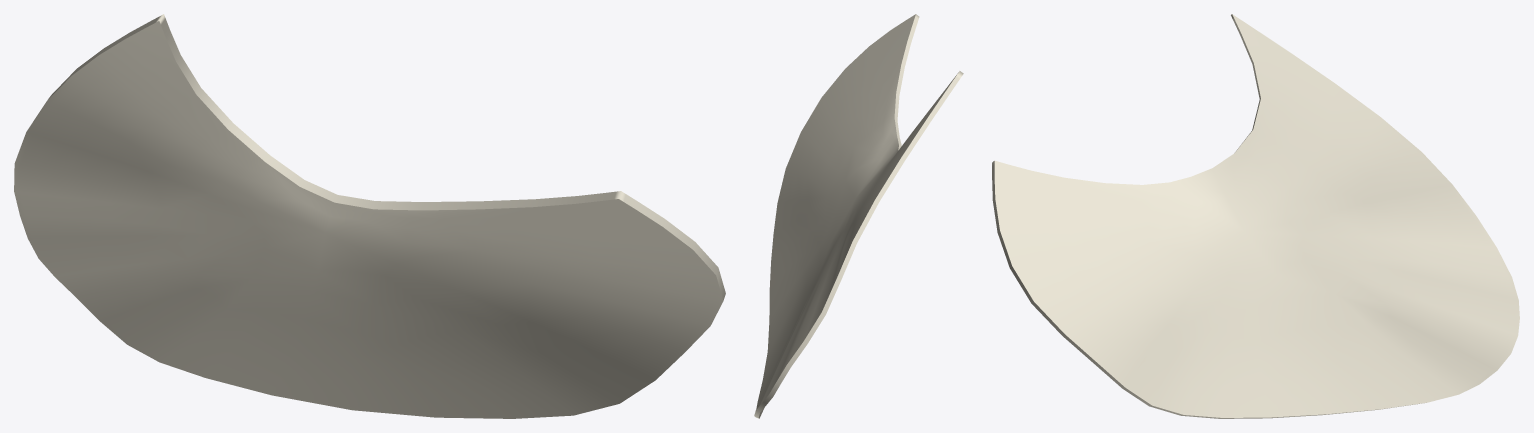
The picture shows the model from 3 angles, left to right: view 1: azimuth 30°, elevation 25°; view 2: azimuth 150°, elevation 25°; view 3: azimuth 270°, elevation 25°; orthographic projection. The views are drawn at different scales.
Visible parts, largest first — view 1: ZA_36586ce52b5c7e1a; view 2: ZA_36586ce52b5c7e1a; view 3: ZA_36586ce52b5c7e1a.
Boxes of the visible parts, <box> form: ZA_36586ce52b5c7e1a: <box>14,14,725,418</box>; ZA_36586ce52b5c7e1a: <box>754,14,963,418</box>; ZA_36586ce52b5c7e1a: <box>992,14,1519,418</box>.
Size of the model in its own units: 0.028 by 0.0332 by 0.0483.
